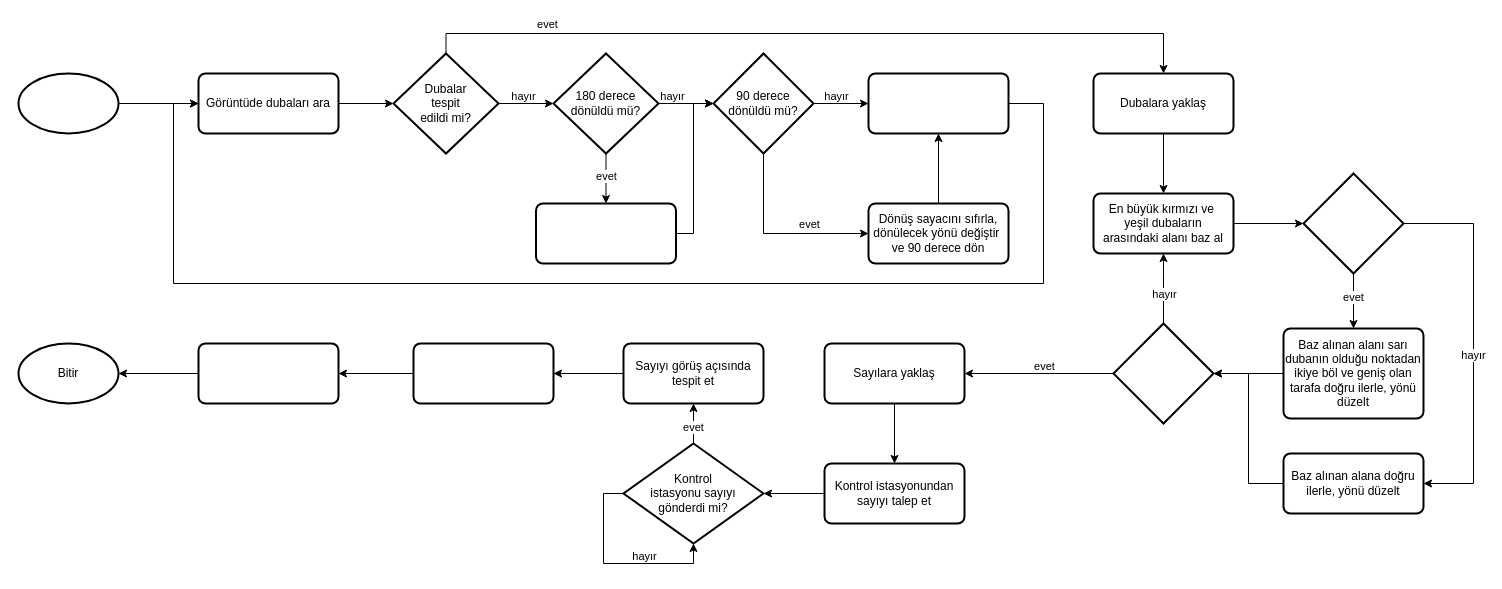
Some shapes in this 1502 by 589 pixel diagram are drawn without their labels. The shapes that lost their labels are listed below. From the top down, each one's centre as x and y in pixels, then its label:
point 68,103: Başla
point 938,103: Kameranın görüş açısı kadar belirli yöne dön (ilk denemeyse sağ)
point 605,233: Dönüş sayacını sıfırla, dönülecek yönü değiştir ve 5 metre ilerle
point 1353,223: Sarı duba algılandı mı?
point 268,373: Başlangıç noktasına geri dön
point 483,373: Sayıya doğru ilerle ve altındaki kıyıya yanaş
point 1163,373: Sayılar görüş açısında mı?
